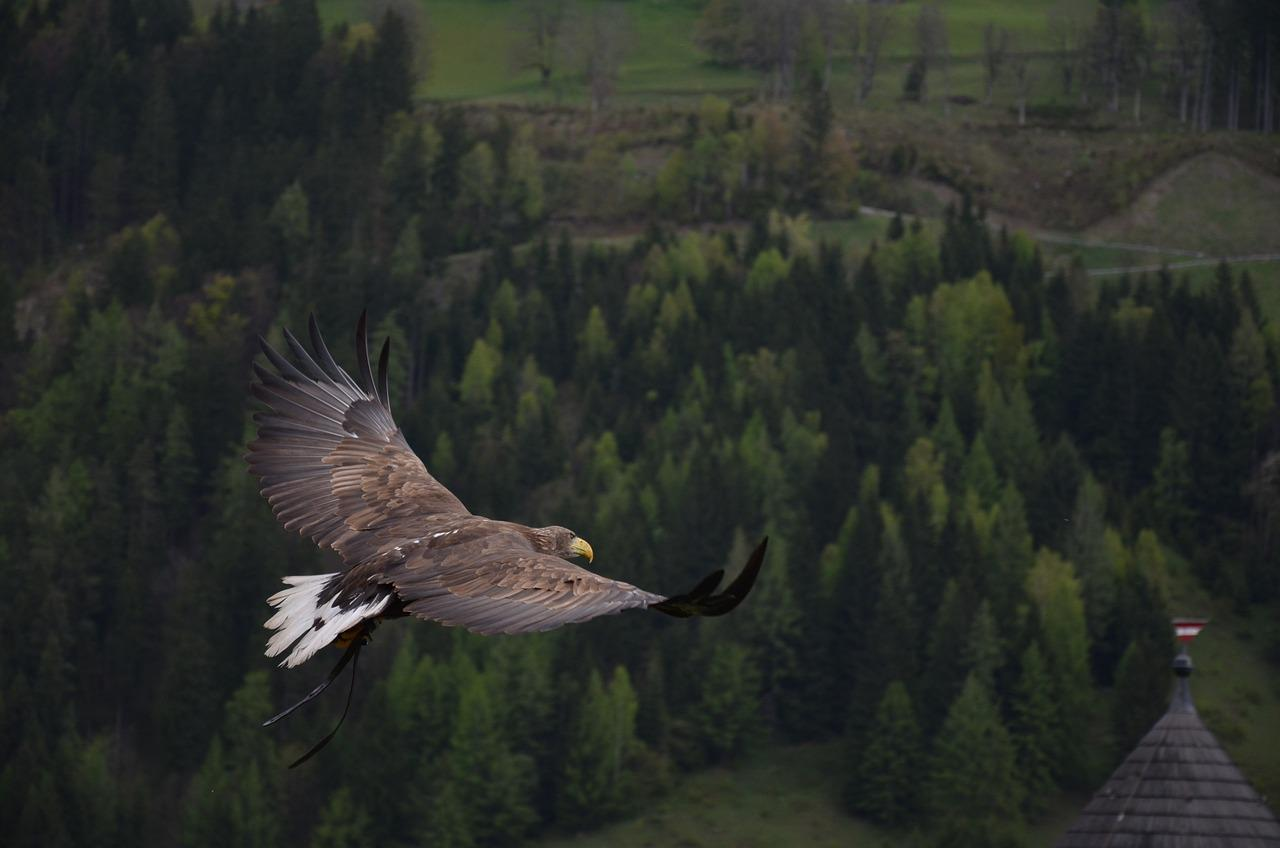bird: (246, 311, 767, 726), (289, 696, 348, 767)
